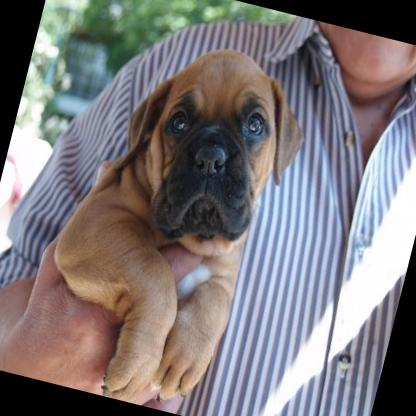boxer: (21, 12, 323, 416)
